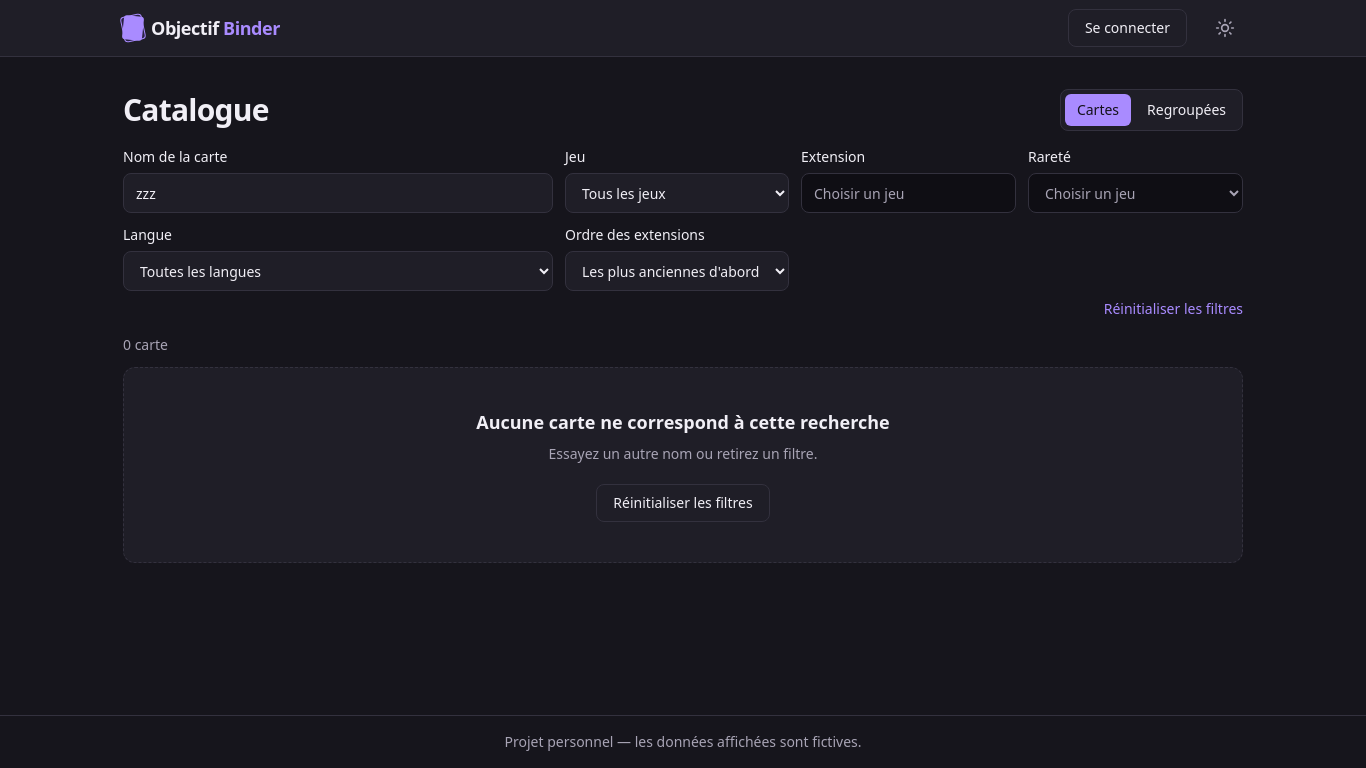
CardSearchPage › empty and error states › offers to reset the filters when a search matches nothing
Expected: the heading "Aucune carte ne correspond à cette recherche" is shown, [476, 410, 890, 434]
Step 1. Click the 2nd button "Réinitialiser les filtres" → (683, 503), box [596, 484, 770, 522]
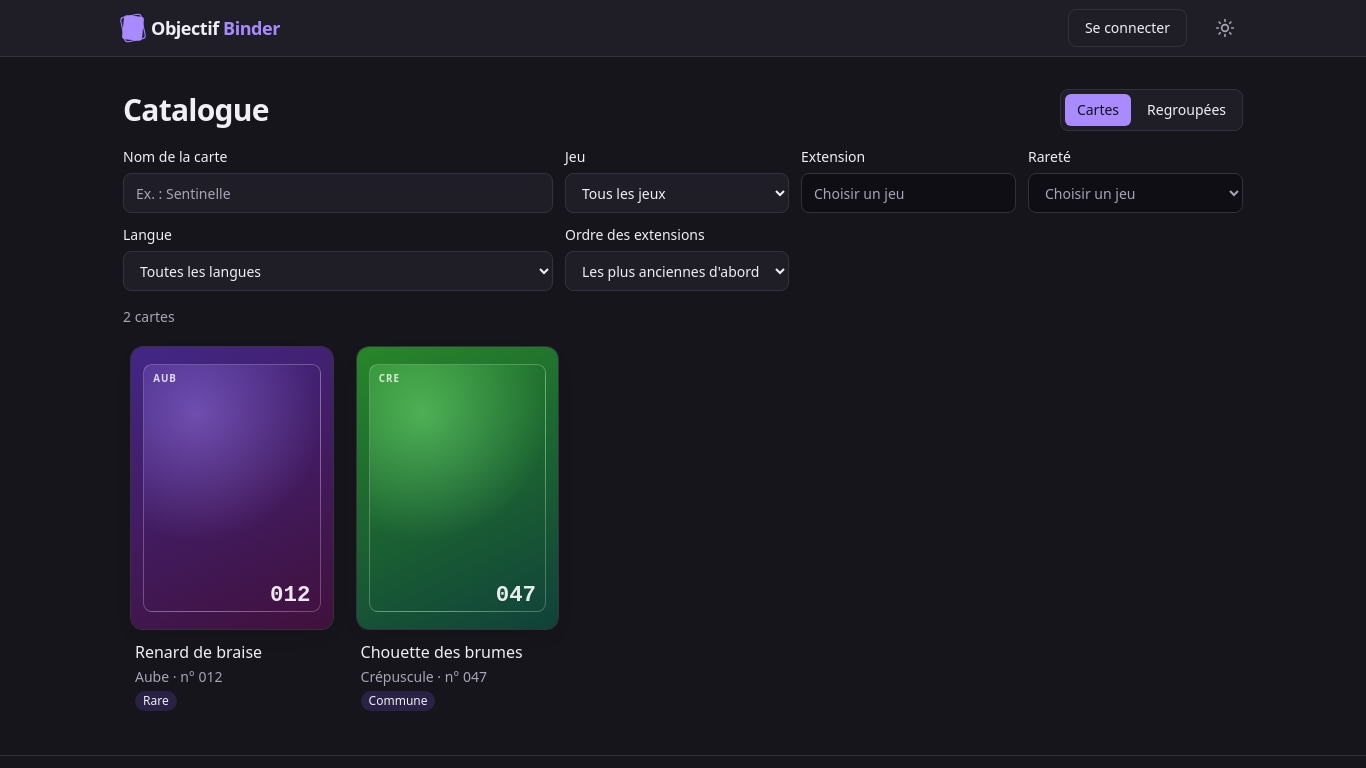
Now the heading "Renard de braise" is shown, box [135, 641, 262, 663]
Now the search field labelled "Nom de la carte" is empty, box [123, 173, 553, 213]
